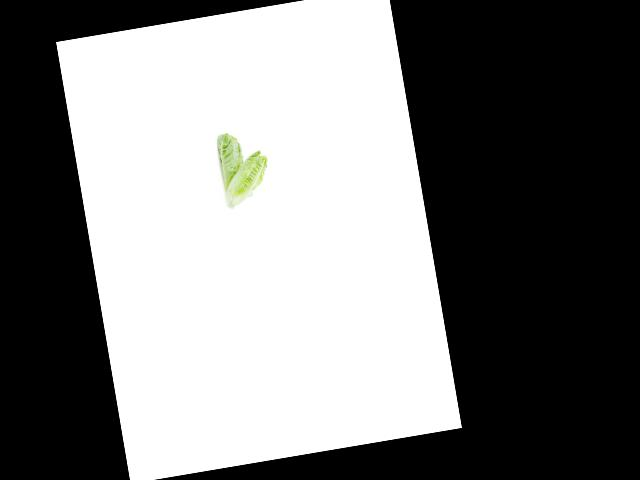lettuce: (209, 126, 250, 194)
